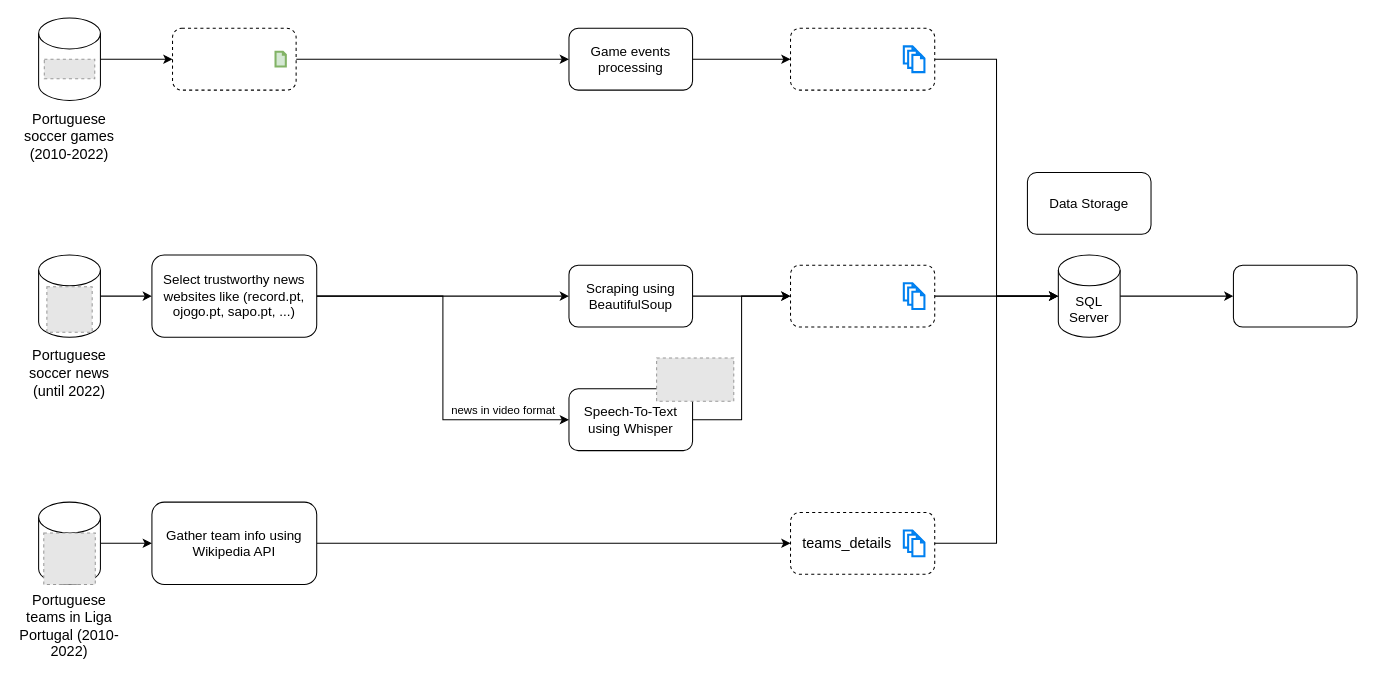
Some shapes in this 1375 by 678 pixel diagram are drawn without their labels. Grey dashed boxes stand in for pictures. Each missing label, with the centre of its shape:
"Data Exploration" belongs at point (1294, 295).
"game_reports" belongs at point (862, 58).
"games.csv" belongs at point (233, 58).
"soccer_news" belongs at point (862, 295).
